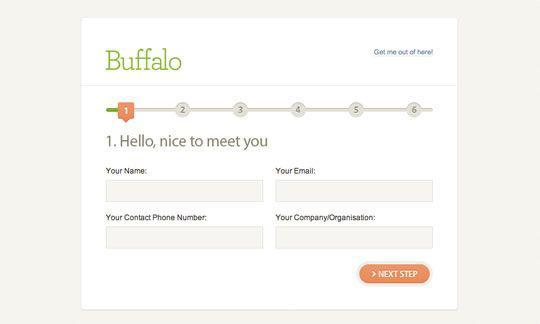button: (360, 265, 432, 285)
input: (276, 226, 434, 251), (107, 227, 265, 250), (106, 181, 265, 203), (277, 182, 434, 202)
label: (106, 213, 210, 225), (275, 213, 377, 224), (105, 167, 151, 177), (274, 166, 316, 176)
